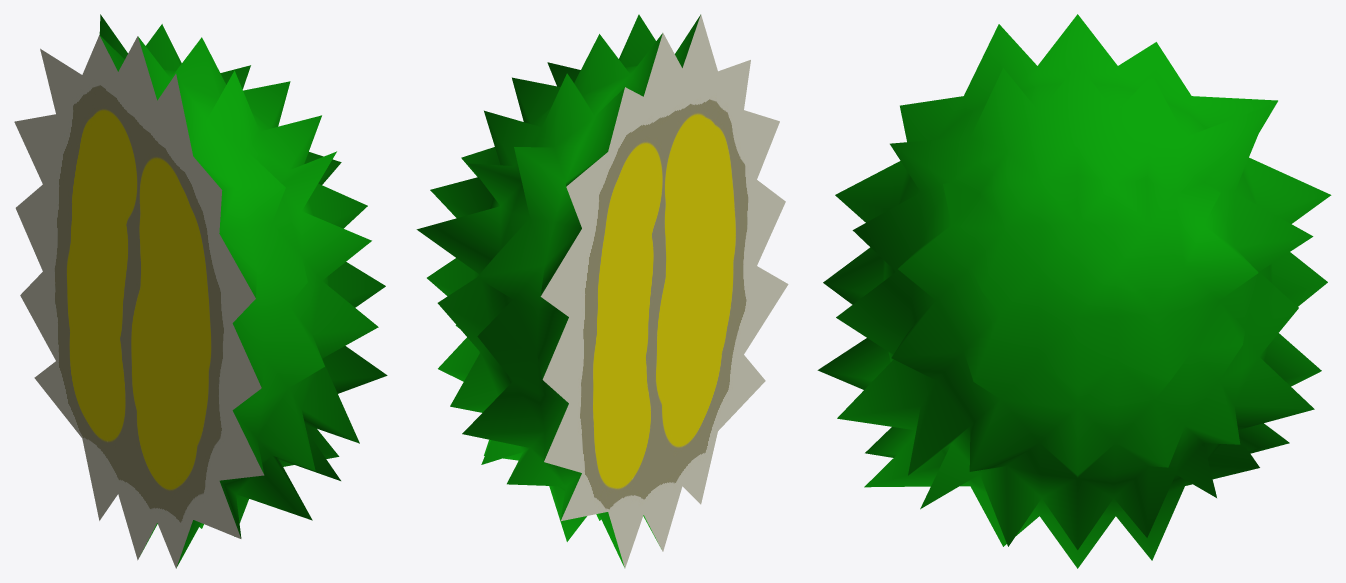
Rendered from durian_rightwithtex.fbx.
3 views of the same model, side by side, from view 1: azimuth 30°, elevation 25°; view 2: azimuth 150°, elevation 25°; view 3: azimuth 270°, elevation 25° (orthographic). The views are drawn at different scales.
Visible parts, largest first — view 1: pasted__polySurface1; view 2: pasted__polySurface1; view 3: pasted__polySurface1.
Boxes of the visible parts, x1,y1,x2,y2 form: pasted__polySurface1: (14, 14, 387, 568); pasted__polySurface1: (416, 14, 788, 568); pasted__polySurface1: (817, 14, 1331, 568).
Bounding box in the file's own units: 1.76 × 4.13 × 3.57.
2 materials, 1 textured.
